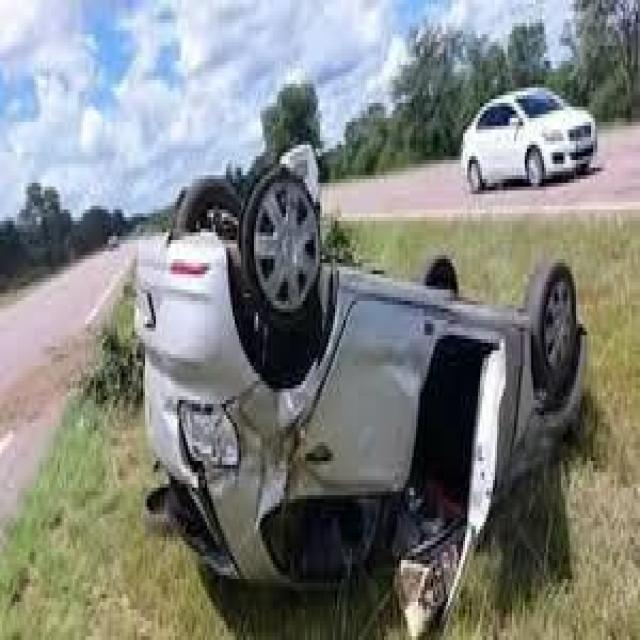accident: (127, 158, 594, 600)
